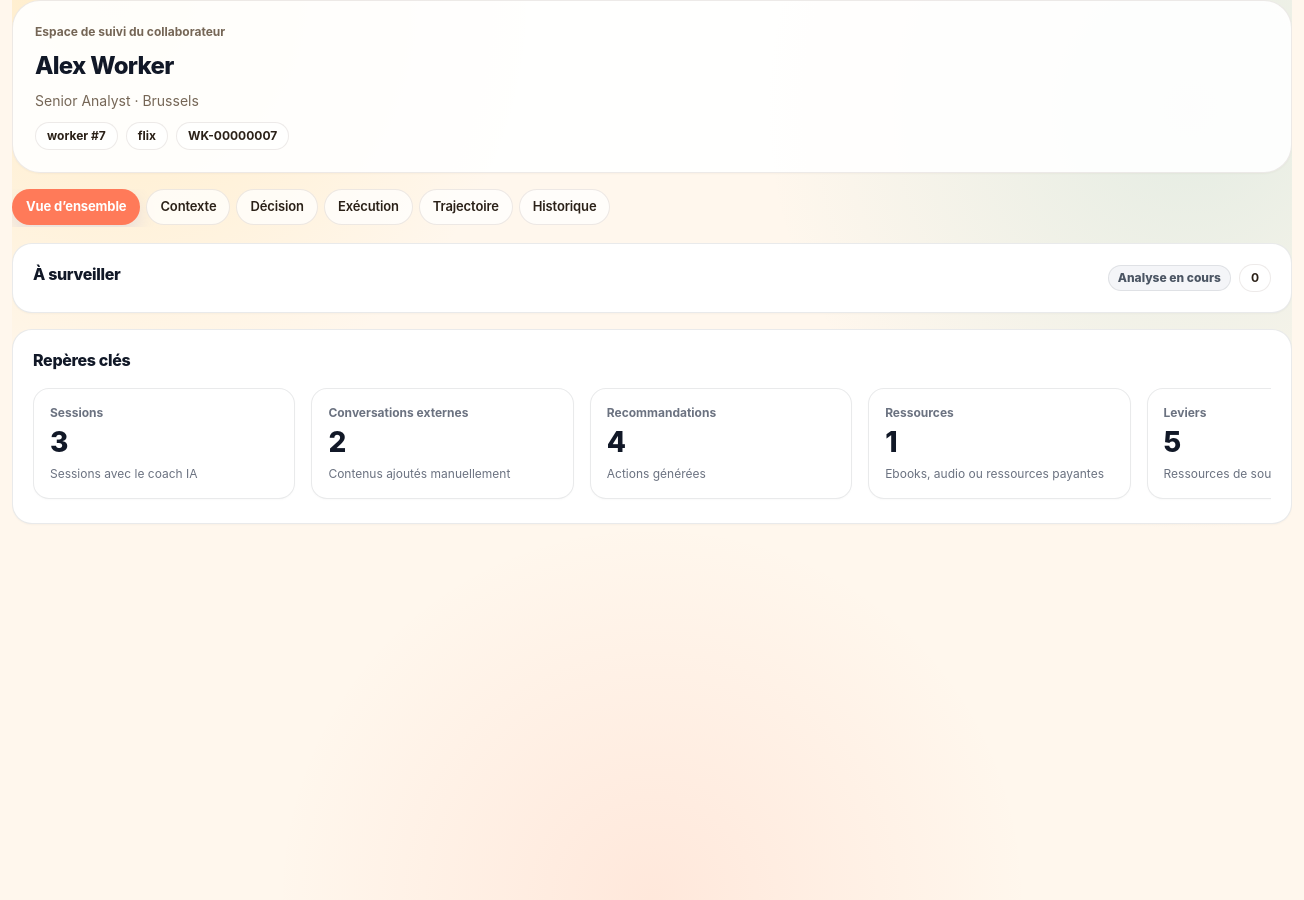
Test: Organization Insights internationalization › moves sessions and artifacts out of Overview and into History
Expected: the text "Session history summary" is not shown
Expected: the text "Leadership guide" is not shown
Click the tab "Historique". click: (565,207)
box: [519, 189, 610, 225]
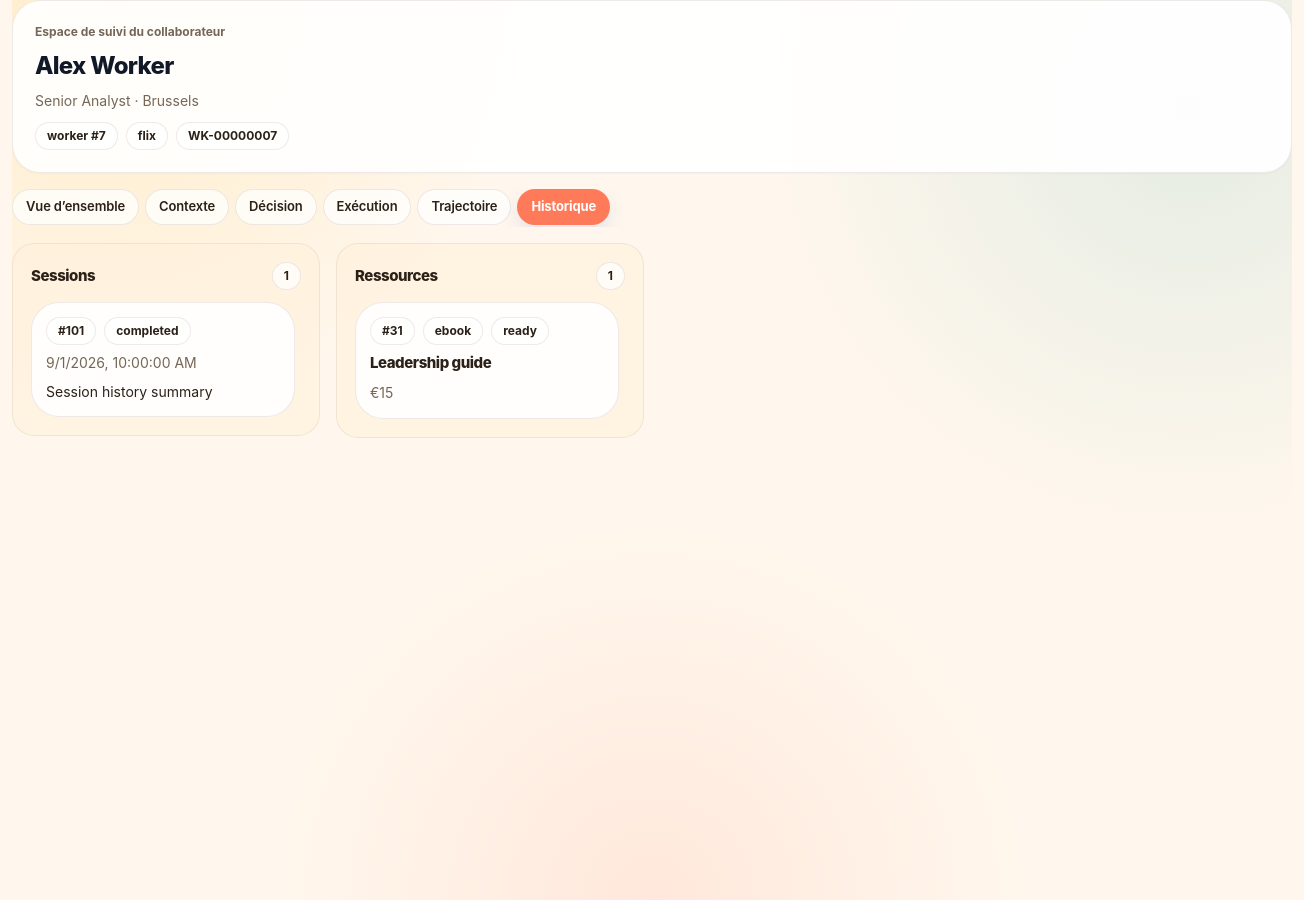
Result: the text "Session history summary" is shown at [46, 383, 212, 400]
Result: the text "Leadership guide" is shown at [370, 353, 491, 372]
